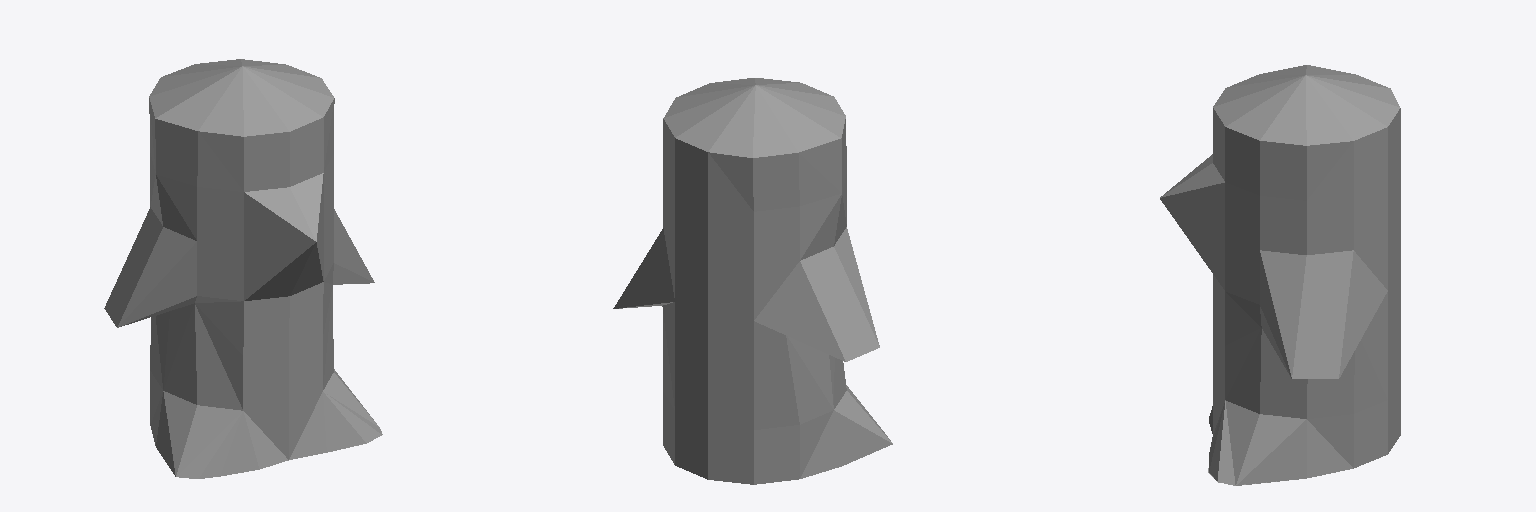
File: penguin.obj
The picture shows the model from 3 angles: view 1: azimuth 30°, elevation 25°; view 2: azimuth 150°, elevation 25°; view 3: azimuth 270°, elevation 25°; orthographic projection.
Parts seen in each view (by area): view 1: Cylinder01; view 2: Cylinder01; view 3: Cylinder01.
Boxes of the visible parts, x1,y1,x2,y2 form: Cylinder01: [104, 59, 382, 478]; Cylinder01: [613, 78, 892, 484]; Cylinder01: [1160, 65, 1400, 485].
Bounding box in the file's own units: 0.5683 × 0.781 × 0.473.